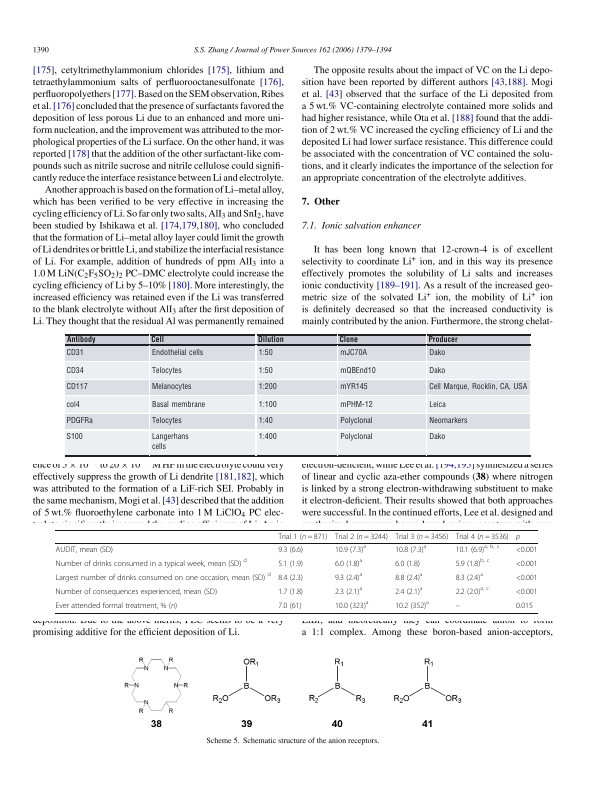borderless: (65, 333, 531, 455), (54, 528, 538, 613)
cell: (55, 571, 272, 583), (55, 557, 248, 569), (55, 587, 218, 597), (55, 601, 178, 611), (428, 382, 528, 392), (150, 432, 189, 452), (55, 545, 114, 555), (455, 543, 500, 555), (150, 400, 206, 409), (334, 532, 389, 541), (394, 532, 449, 541), (455, 532, 510, 541), (150, 348, 204, 357), (277, 532, 328, 541), (394, 599, 430, 611), (455, 557, 490, 569), (455, 585, 490, 597), (334, 599, 369, 611), (150, 382, 192, 392), (428, 416, 468, 426), (334, 543, 367, 555), (394, 543, 427, 555), (334, 557, 363, 569), (334, 571, 363, 583), (394, 571, 423, 583), (455, 571, 484, 583), (334, 585, 363, 597), (394, 585, 423, 597), (339, 416, 373, 426), (339, 432, 373, 442), (339, 366, 376, 375), (150, 416, 182, 426), (65, 335, 96, 345), (427, 335, 458, 345), (339, 400, 373, 409), (339, 382, 368, 392), (150, 366, 182, 375), (256, 335, 284, 345), (65, 416, 93, 426), (277, 545, 304, 555), (277, 559, 304, 569), (394, 559, 421, 569), (277, 573, 304, 583), (277, 587, 304, 597), (339, 348, 367, 357), (277, 601, 302, 611), (515, 545, 538, 555), (515, 559, 538, 569), (515, 573, 538, 583), (515, 587, 538, 597), (65, 382, 88, 392), (338, 335, 358, 345), (257, 382, 277, 392), (257, 432, 277, 442), (515, 601, 534, 611), (257, 400, 277, 409), (65, 432, 83, 442), (428, 432, 446, 442), (65, 348, 84, 357), (65, 366, 84, 375), (428, 348, 446, 357), (428, 366, 446, 375), (428, 400, 446, 409), (257, 416, 273, 426), (257, 348, 273, 357), (257, 366, 273, 375), (150, 335, 164, 345), (65, 400, 80, 409), (515, 534, 521, 541), (455, 605, 461, 609)
